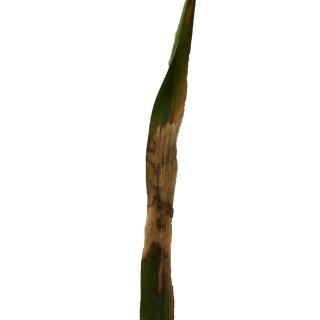Hawar-Daun: (148, 125, 171, 259)
